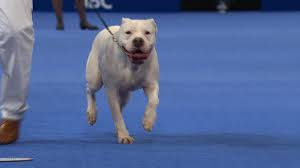dog: (80, 12, 178, 148)
